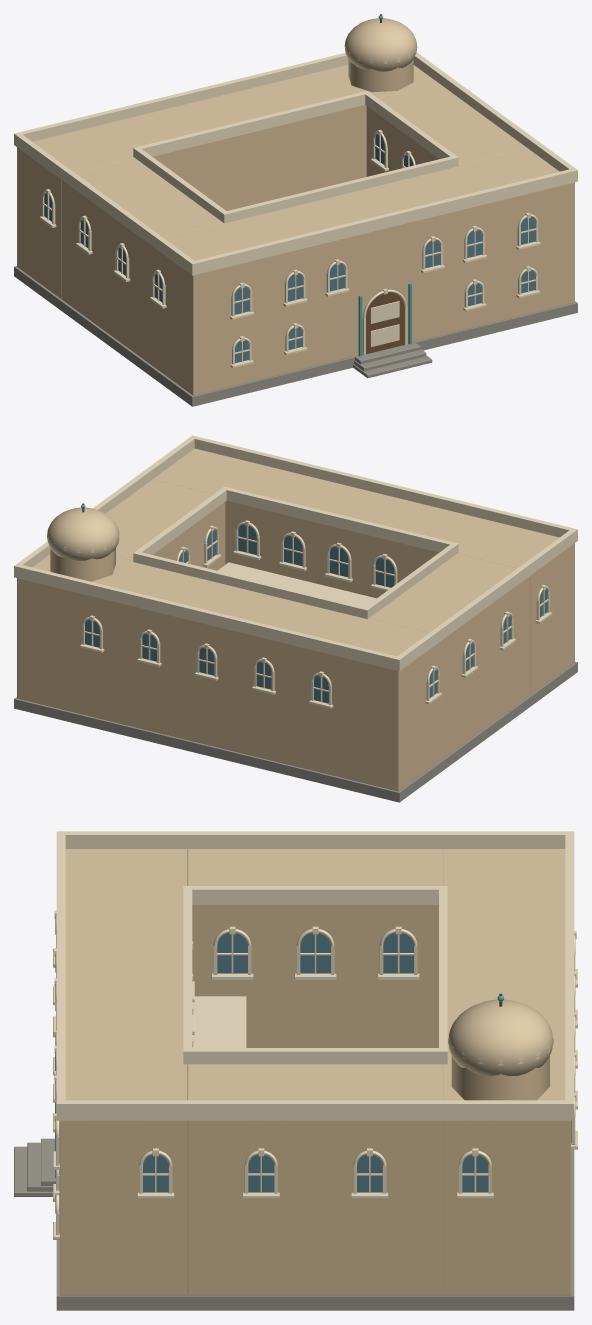
The model's file is large_moorish_riad.glb.
3 renders of one model, top to bottom at view 1: azimuth 30°, elevation 25°; view 2: azimuth 150°, elevation 25°; view 3: azimuth 270°, elevation 25°, orthographic. The views are drawn at different scales.
Visible parts, largest first — view 1: Front residence wing closed exterior walls, Rear residence wing closed exterior walls, Single closed exterior parapet, Front residence wing flat terrace roof, Rear residence wing flat terrace roof, Left courtyard wing closed exterior walls, Single closed courtyard parapet, Single closed riad foundation, Right courtyard wing flat terrace roof, Left courtyard wing flat terrace roof, Small ochre corner dome, Right courtyard wing closed exterior walls (+7 smaller); view 2: Rear residence wing closed exterior walls, Single closed exterior parapet, Front residence wing closed exterior walls, Front residence wing flat terrace roof, Left courtyard wing closed exterior walls, Rear residence wing flat terrace roof, Single closed courtyard parapet, Single closed riad foundation, Left courtyard wing flat terrace roof, Right courtyard wing flat terrace roof, Small ochre corner dome, Right courtyard wing closed exterior walls (+2 smaller); view 3: Right courtyard wing closed exterior walls, Front residence wing flat terrace roof, Left courtyard wing closed exterior walls, Single closed exterior parapet, Rear residence wing flat terrace roof, Rear residence wing closed exterior walls, Front residence wing closed exterior walls, Single closed courtyard parapet, Right courtyard wing flat terrace roof, Left courtyard wing flat terrace roof, Single closed riad foundation, Small ochre corner dome (+12 smaller).
Part boxes in pixels (box(x1,y1,x2,y2)): Front residence wing closed exterior walls: box(149, 182, 574, 395); Rear residence wing closed exterior walls: box(17, 105, 366, 298); Single closed exterior parapet: box(14, 52, 577, 275); Front residence wing flat terrace roof: box(163, 148, 574, 275); Rear residence wing flat terrace roof: box(32, 65, 438, 172); Left courtyard wing closed exterior walls: box(61, 180, 149, 363); Single closed courtyard parapet: box(133, 91, 458, 223); Single closed riad foundation: box(14, 266, 577, 406); Right courtyard wing flat terrace roof: box(378, 83, 526, 164); Left courtyard wing flat terrace roof: box(75, 158, 222, 236); Small ochre corner dome: box(344, 18, 417, 71); Right courtyard wing closed exterior walls: box(366, 106, 438, 176); Rear residence wing closed exterior walls: box(17, 578, 442, 791); Single closed exterior parapet: box(14, 435, 577, 671); Front residence wing closed exterior walls: box(225, 501, 574, 694); Front residence wing flat terrace roof: box(153, 448, 559, 568); Left courtyard wing closed exterior walls: box(442, 575, 530, 758); Rear residence wing flat terrace roof: box(17, 554, 428, 656); Single closed courtyard parapet: box(133, 486, 458, 619); Single closed riad foundation: box(14, 661, 577, 802); Left courtyard wing flat terrace roof: box(369, 553, 516, 632); Right courtyard wing flat terrace roof: box(106, 479, 213, 560); Small ochre corner dome: box(47, 507, 119, 560); Right courtyard wing closed exterior walls: box(153, 502, 225, 570); Right courtyard wing closed exterior walls: box(187, 1120, 443, 1295); Front residence wing flat terrace roof: box(60, 849, 187, 1121); Left courtyard wing closed exterior walls: box(192, 905, 438, 1047); Single closed exterior parapet: box(56, 831, 574, 1120); Rear residence wing flat terrace roof: box(443, 849, 570, 1121); Rear residence wing closed exterior walls: box(443, 1120, 570, 1295); Front residence wing closed exterior walls: box(60, 1120, 187, 1295); Single closed courtyard parapet: box(183, 886, 447, 1064); Right courtyard wing flat terrace roof: box(187, 1064, 443, 1121); Left courtyard wing flat terrace roof: box(187, 849, 443, 905); Single closed riad foundation: box(56, 1149, 574, 1310); Small ochre corner dome: box(448, 999, 553, 1076).
Bounding box in the file's own units: 20.43 × 9.86 × 17.66.
